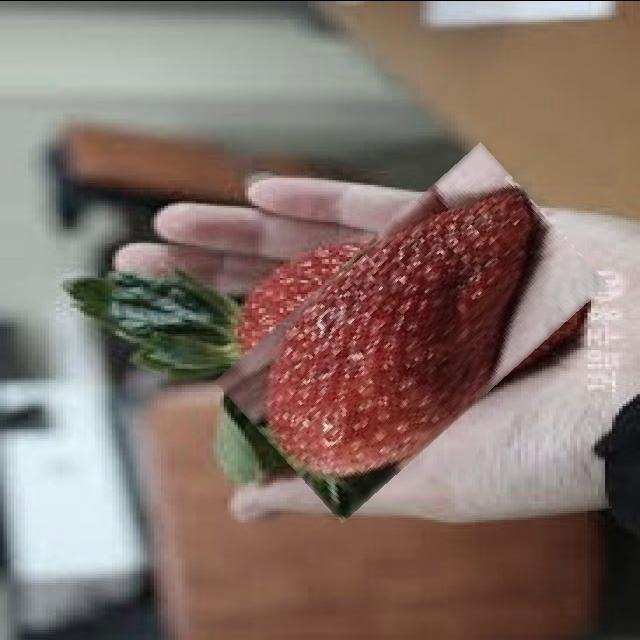strawberry: (224, 190, 598, 476)
